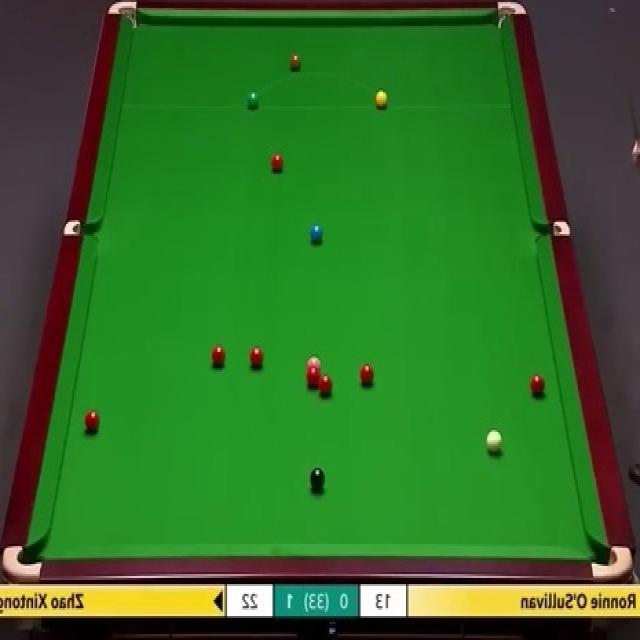black-ball: (308, 466, 326, 493)
blue-ball: (310, 222, 325, 244)
brown-ball: (289, 52, 302, 72)
green-ball: (247, 89, 260, 110)
pink-ball: (306, 356, 322, 370)
red-ball: (529, 372, 545, 398), (269, 152, 286, 174), (83, 411, 100, 433), (249, 346, 265, 369), (305, 367, 322, 388), (360, 364, 375, 386), (212, 345, 226, 368), (318, 376, 332, 396)
white-ball: (488, 430, 505, 455)
yellow-ball: (375, 88, 388, 109)
